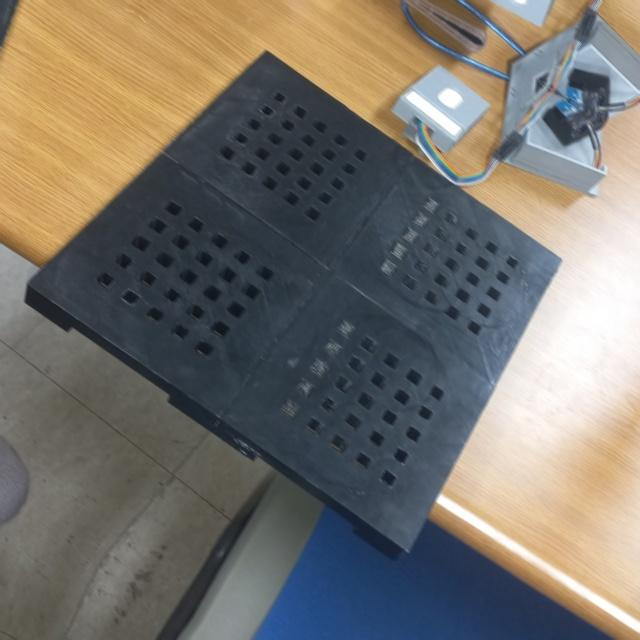pallet: (12, 41, 568, 560)
